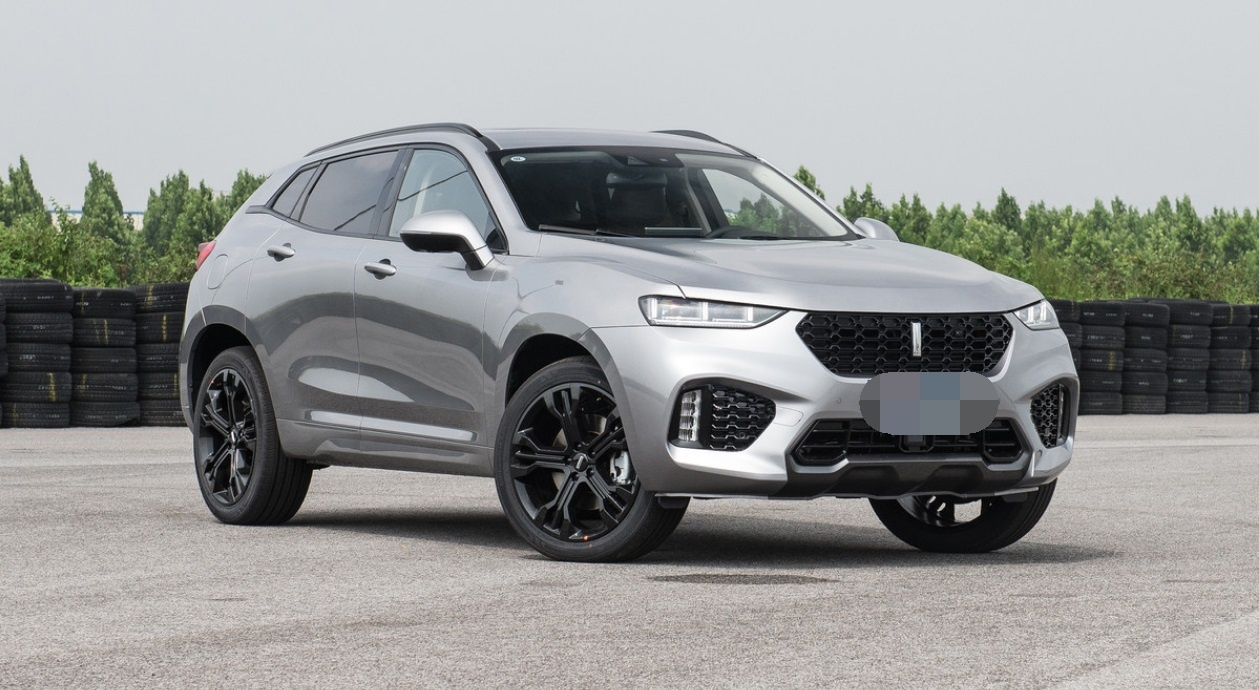SUV: (160, 93, 1094, 566)
